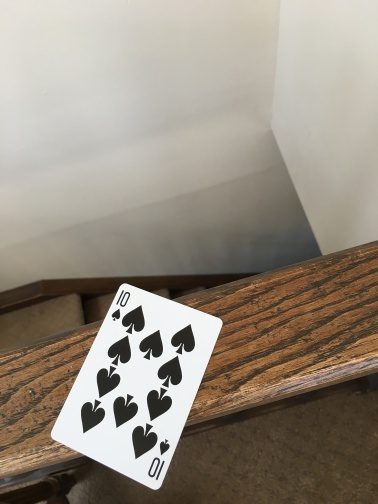ten: (50, 281, 225, 493)
